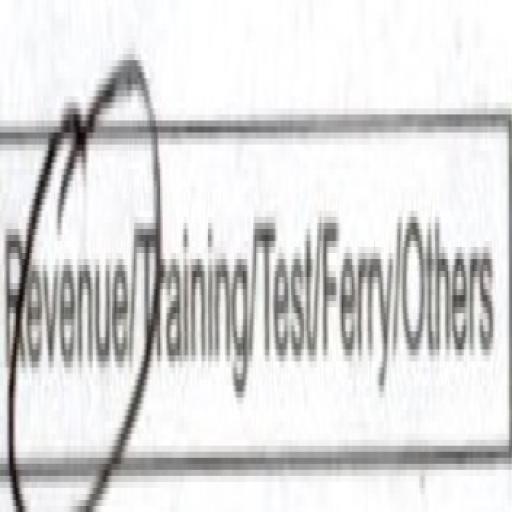check: (3, 30, 135, 512)
